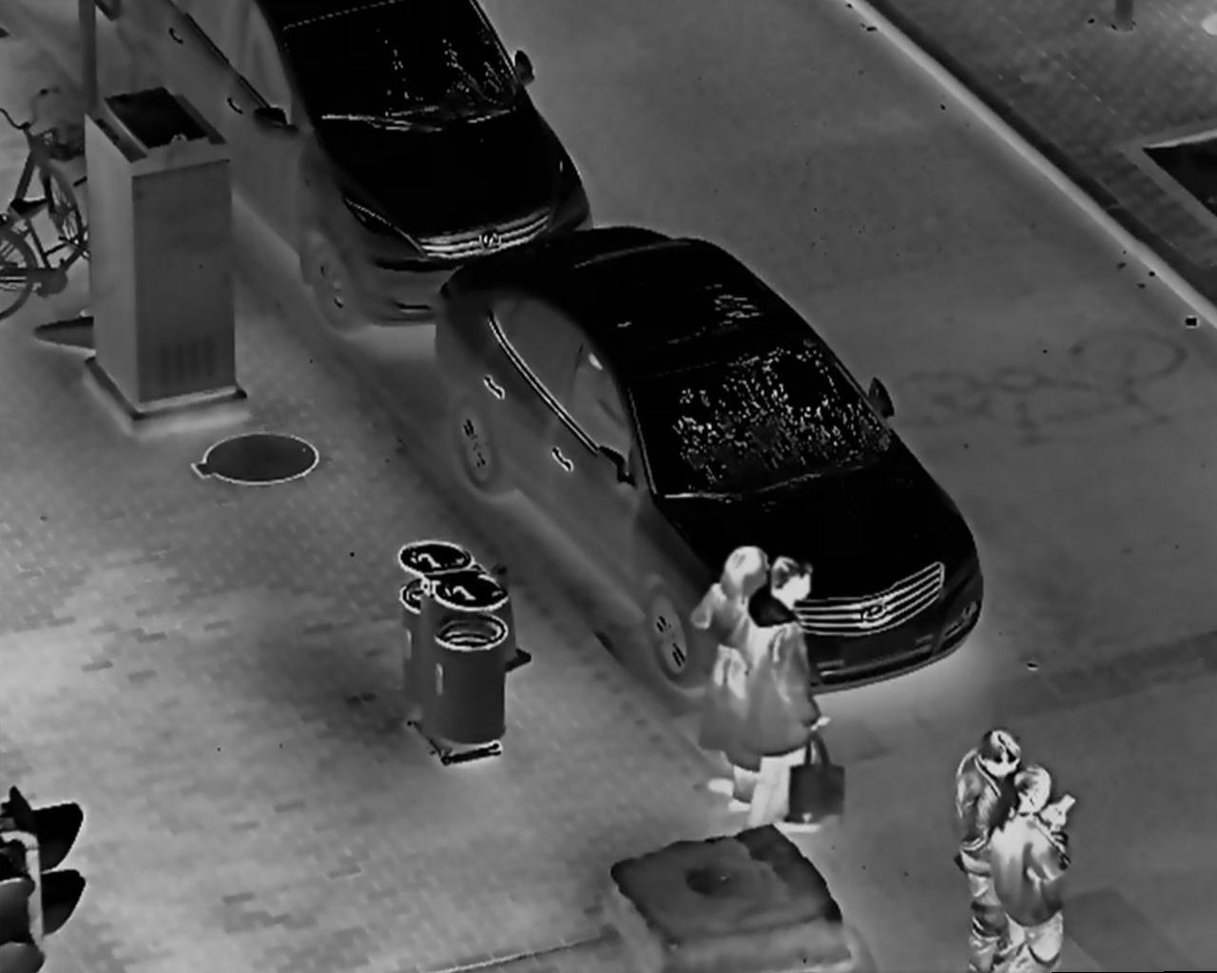person: (747, 558, 848, 836), (688, 543, 777, 818), (985, 762, 1081, 973), (952, 727, 1025, 973)
